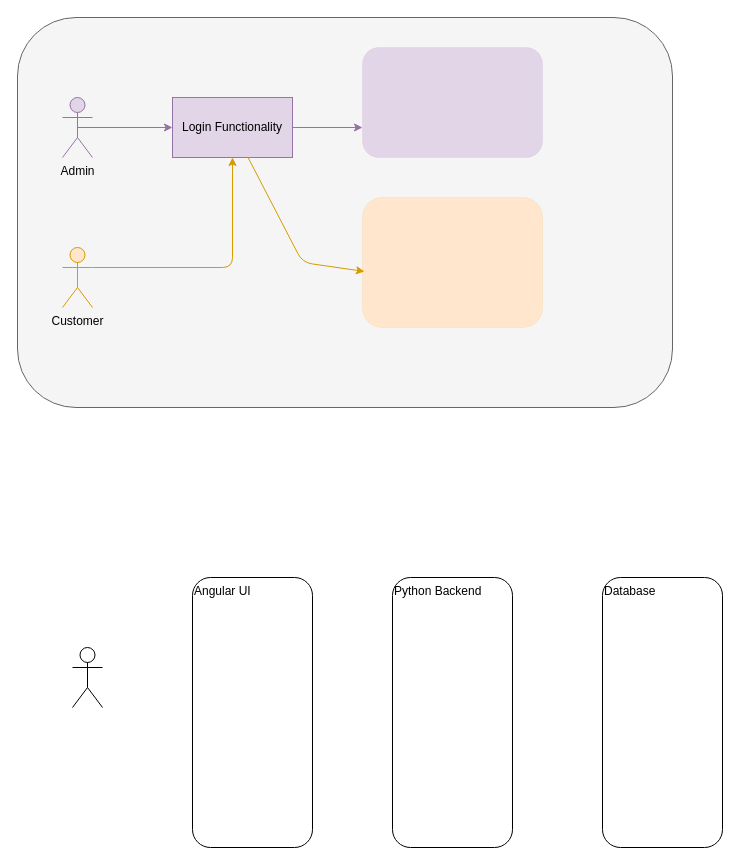
Some shapes in this 740 by 865 pixel diagram are drawn without their labels. The centre of each missing label's shape, as x and y in pixels:
"Admin Functionalities upload menu See current orders" belongs at (452,102).
"Customer functionalities Browse menu Select and place order Push to cart payment" belongs at (452,262).
"User" belongs at (87,677).
